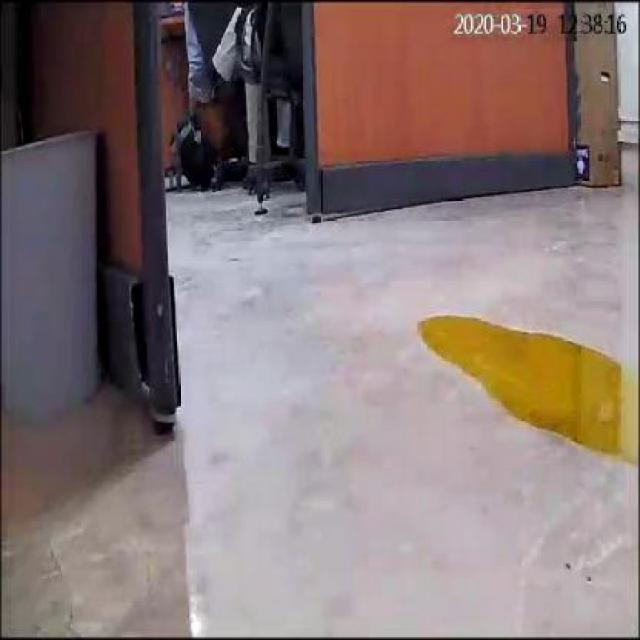spill: (416, 310, 638, 472)
